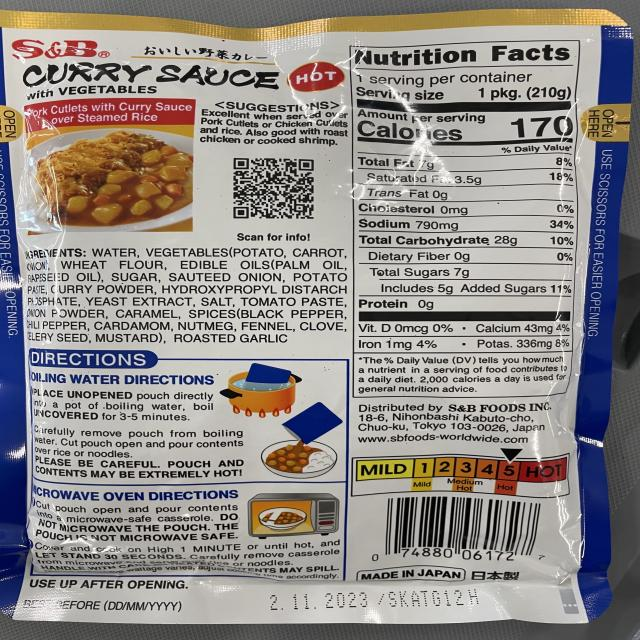object_name: (17, 21, 586, 630)
